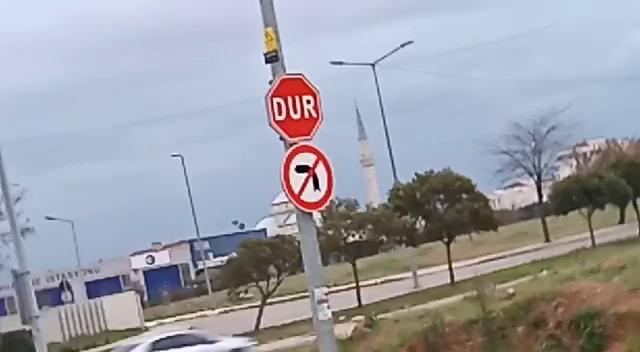no_left: (278, 141, 337, 217)
stop: (261, 70, 327, 145)
